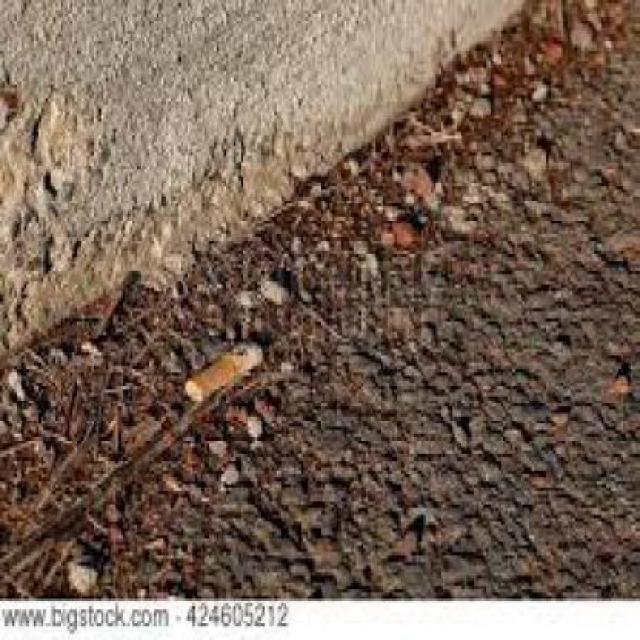cigarette: (180, 356, 272, 372)
